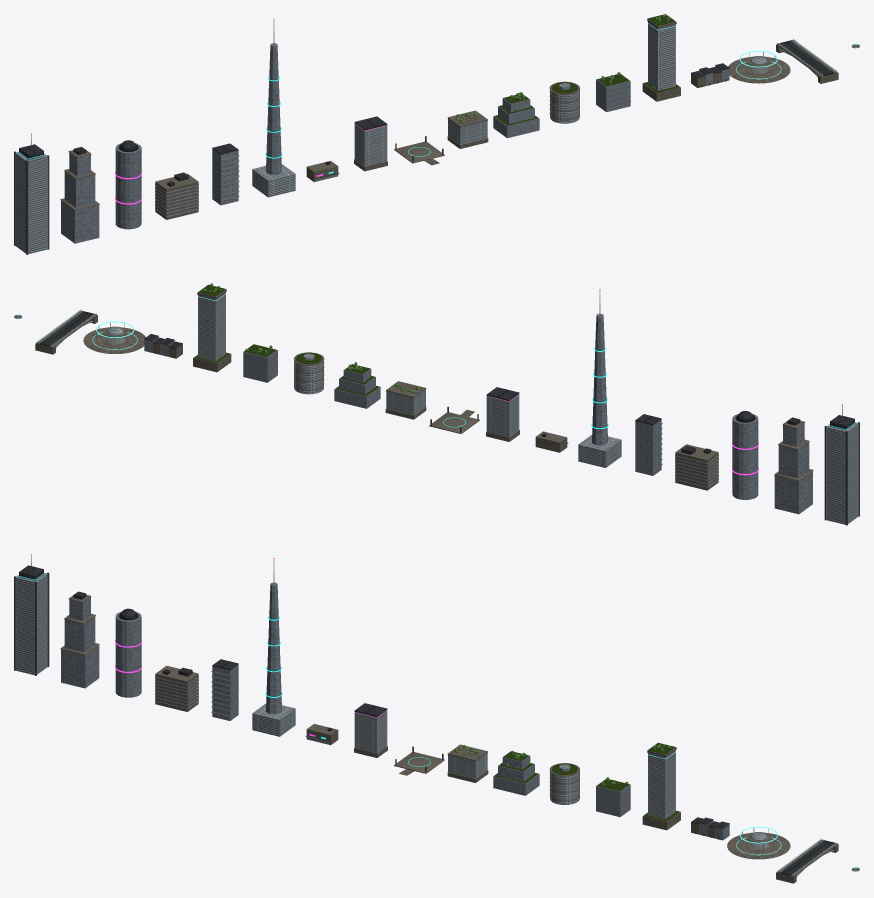
File: city_buildings.glb
3 views of the same model, one above another, from view 1: azimuth 30°, elevation 25°; view 2: azimuth 150°, elevation 25°; view 3: azimuth 330°, elevation 25° (orthographic).
Visible parts, largest first — view 1: BLD_0_mesh, BLD_1_mesh, BLD_5_mesh, BLD_12_mesh, BLD_2_mesh, BLD_3_mesh, BLD_7_mesh, BLD_4_mesh, BLD_9_mesh, BLD_rotunda_mesh, BLD_8_mesh, BLD_10_mesh (+5 smaller); view 2: BLD_0_mesh, BLD_1_mesh, BLD_5_mesh, BLD_12_mesh, BLD_2_mesh, BLD_3_mesh, BLD_7_mesh, BLD_4_mesh, BLD_9_mesh, BLD_rotunda_mesh, BLD_8_mesh, BLD_10_mesh (+5 smaller); view 3: BLD_0_mesh, BLD_1_mesh, BLD_5_mesh, BLD_12_mesh, BLD_2_mesh, BLD_3_mesh, BLD_7_mesh, BLD_4_mesh, BLD_9_mesh, BLD_rotunda_mesh, BLD_8_mesh, BLD_10_mesh (+4 smaller).
Part boxes in pixels (x1,y1,x2,y2): BLD_0_mesh: [14, 133, 49, 254]; BLD_1_mesh: [60, 147, 99, 243]; BLD_5_mesh: [252, 18, 295, 197]; BLD_12_mesh: [642, 14, 680, 101]; BLD_2_mesh: [115, 140, 141, 229]; BLD_3_mesh: [155, 172, 198, 219]; BLD_7_mesh: [354, 116, 387, 171]; BLD_4_mesh: [212, 143, 239, 205]; BLD_9_mesh: [493, 92, 539, 138]; BLD_rotunda_mesh: [728, 51, 790, 83]; BLD_8_mesh: [447, 110, 488, 148]; BLD_10_mesh: [549, 81, 580, 123]; BLD_0_mesh: [824, 404, 859, 525]; BLD_1_mesh: [774, 417, 813, 514]; BLD_5_mesh: [578, 289, 621, 467]; BLD_12_mesh: [193, 283, 231, 372]; BLD_2_mesh: [732, 411, 758, 499]; BLD_3_mesh: [675, 444, 718, 490]; BLD_7_mesh: [486, 387, 519, 441]; BLD_4_mesh: [635, 414, 662, 475]; BLD_9_mesh: [334, 362, 380, 408]; BLD_rotunda_mesh: [83, 321, 145, 353]; BLD_8_mesh: [385, 381, 426, 419]; BLD_10_mesh: [294, 352, 324, 394]; BLD_0_mesh: [14, 554, 49, 675]; BLD_1_mesh: [60, 591, 99, 688]; BLD_5_mesh: [252, 558, 295, 736]; BLD_12_mesh: [642, 742, 680, 830]; BLD_2_mesh: [115, 608, 141, 697]; BLD_3_mesh: [155, 665, 198, 711]; BLD_7_mesh: [354, 703, 387, 757]; BLD_4_mesh: [211, 659, 238, 720]; BLD_9_mesh: [493, 750, 539, 795]; BLD_rotunda_mesh: [727, 826, 790, 859]; BLD_8_mesh: [447, 744, 488, 782]; BLD_10_mesh: [549, 763, 580, 804].
Bounding box in the file's own units: 1038 × 209 × 96.37.
17 materials, 7 textured.
